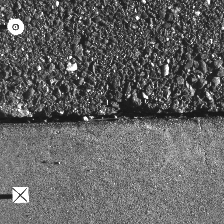circle: (7, 17, 24, 35)
crack: (1, 110, 223, 126)
square: (11, 187, 29, 203)
